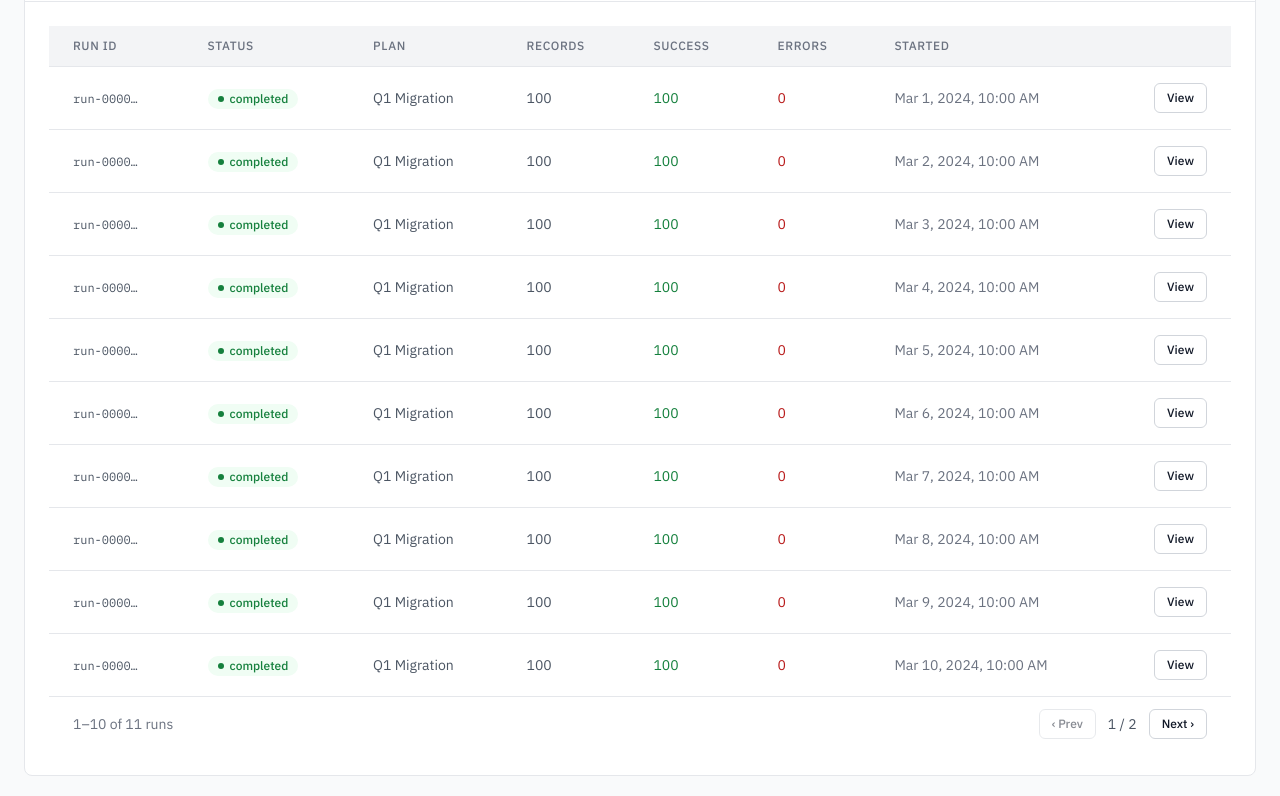
Test: RunsPage › resets to page 1 when a filter is changed
(page scrolled)
Click the button with aria-label "next page" at x=1178, y=724, box [1149,709,1207,739]
(page scrolled)
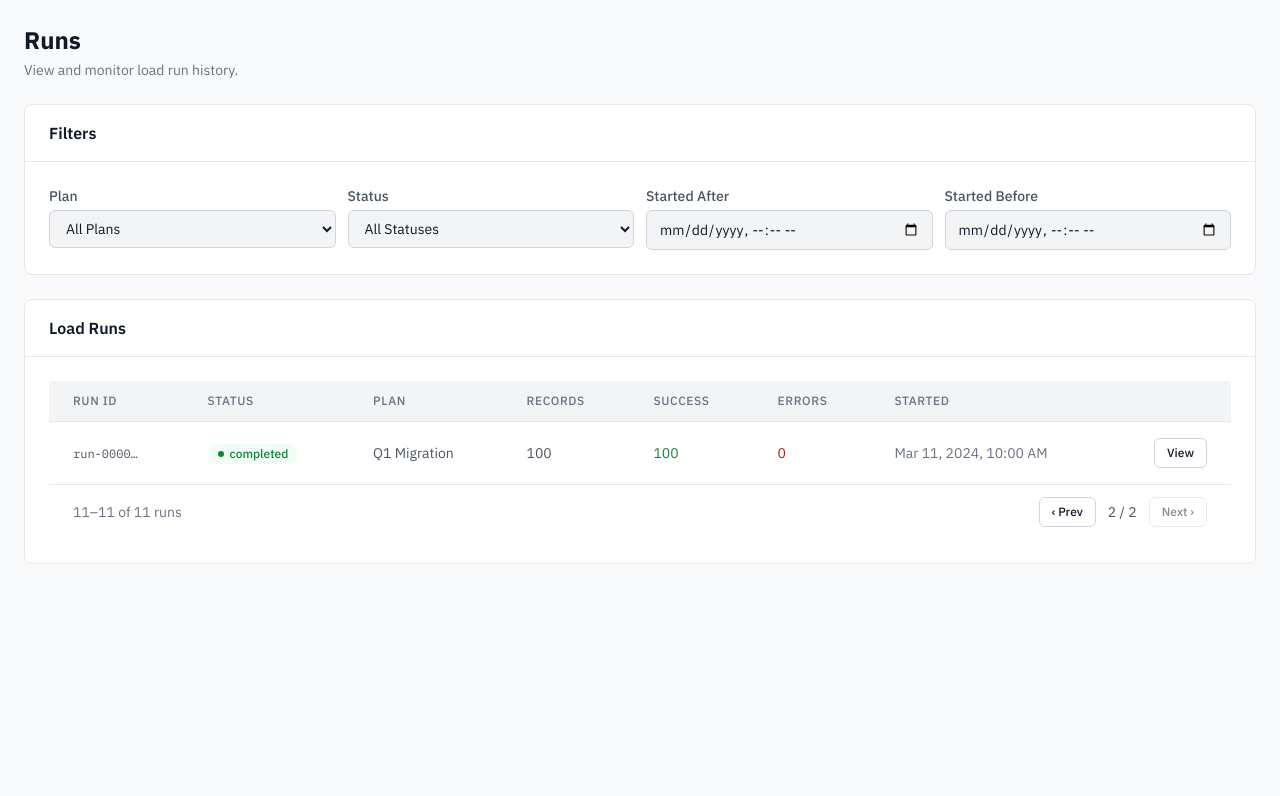
Expected: the text "2 / 2" is shown, [1108,503,1137,521]
Select "completed" in the dropdown named "Filter by status" at x=491, y=229, box [348,210,634,248]
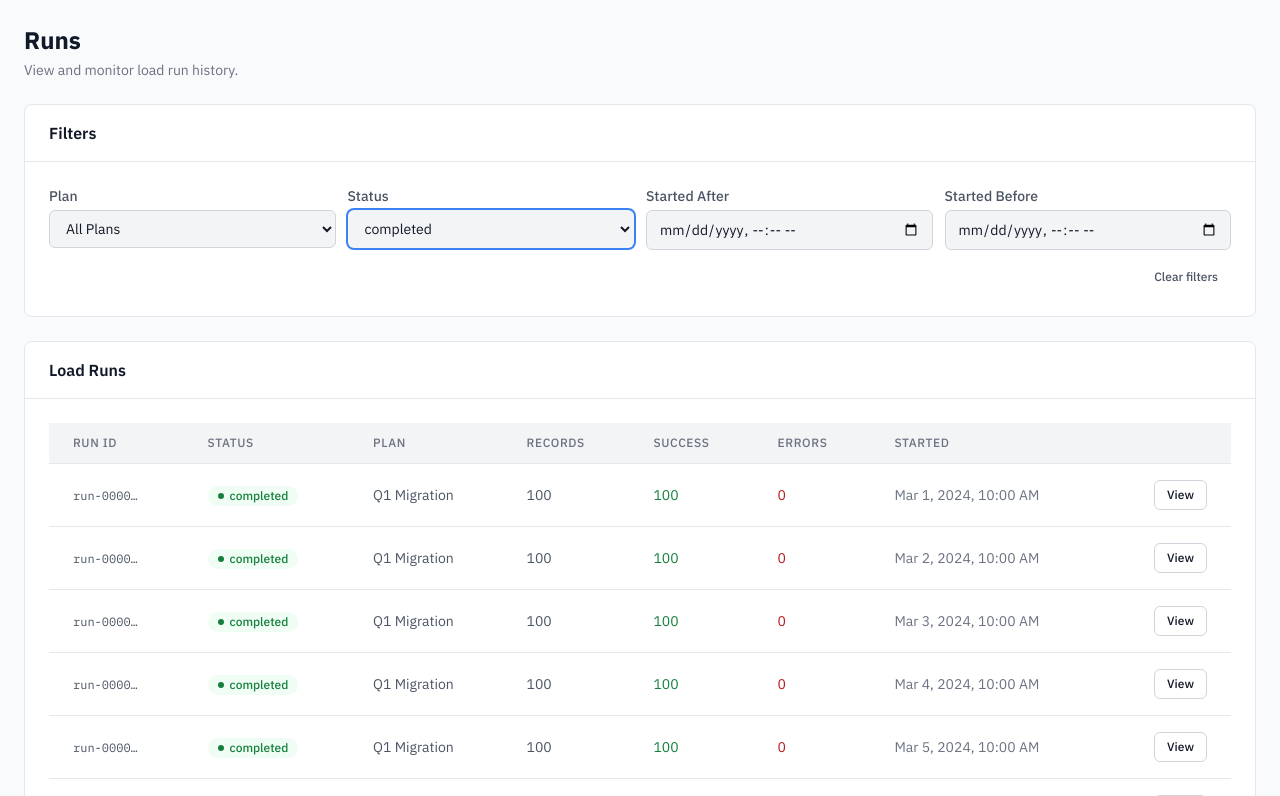
Expected: the text "2 / 2" is gone
